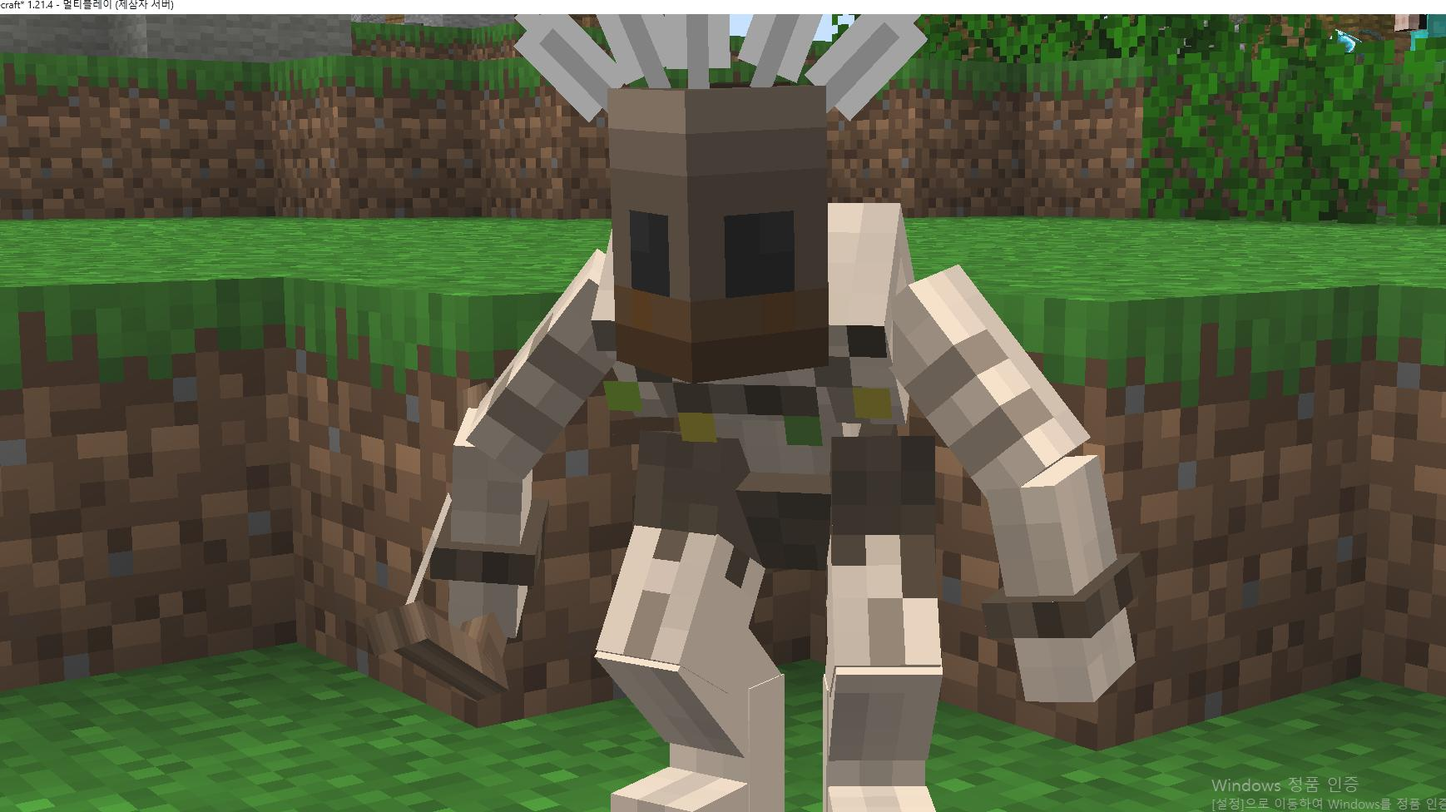bow_indian: (354, 3, 1201, 812)
